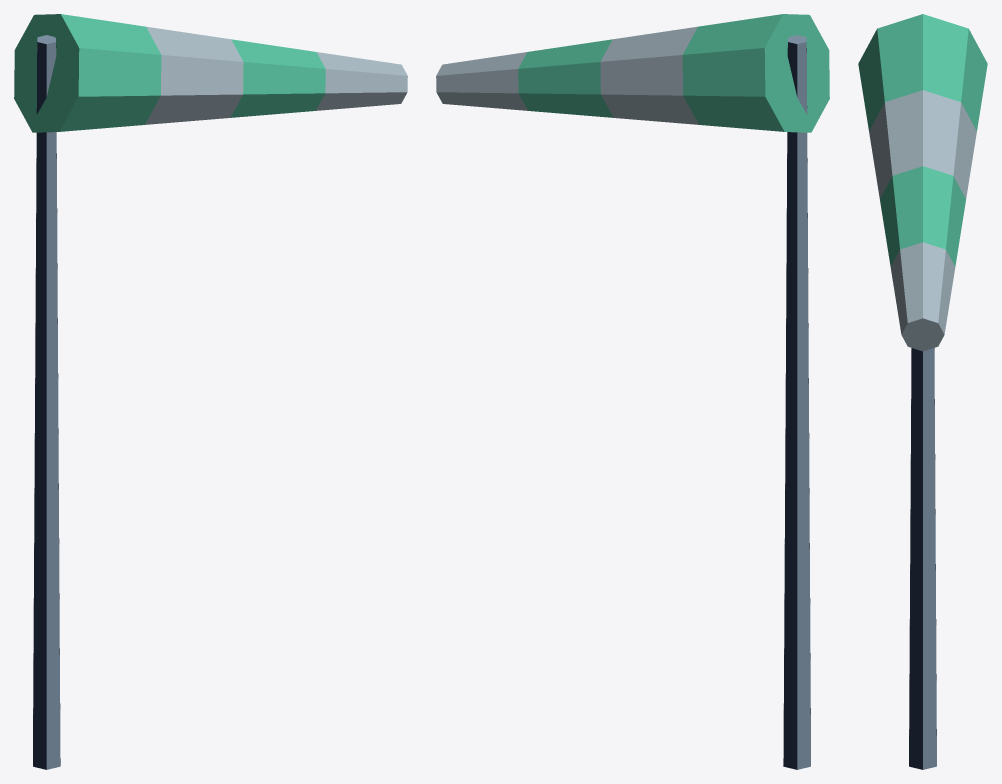
The model's file is wind-sock.glb.
The picture shows the model from 3 angles, left to right: view 1: azimuth 30°, elevation 25°; view 2: azimuth 150°, elevation 25°; view 3: azimuth 270°, elevation 25°; orthographic projection.
Parts seen in each view (by area): view 1: wind-sock; view 2: wind-sock; view 3: wind-sock.
Boxes of the visible parts, box(x1,y1,x2,y2) form: wind-sock: box(14, 14, 407, 769); wind-sock: box(436, 14, 829, 769); wind-sock: box(858, 14, 987, 769).
Size of the model in its own units: 1.6 by 3.09 by 0.48.
